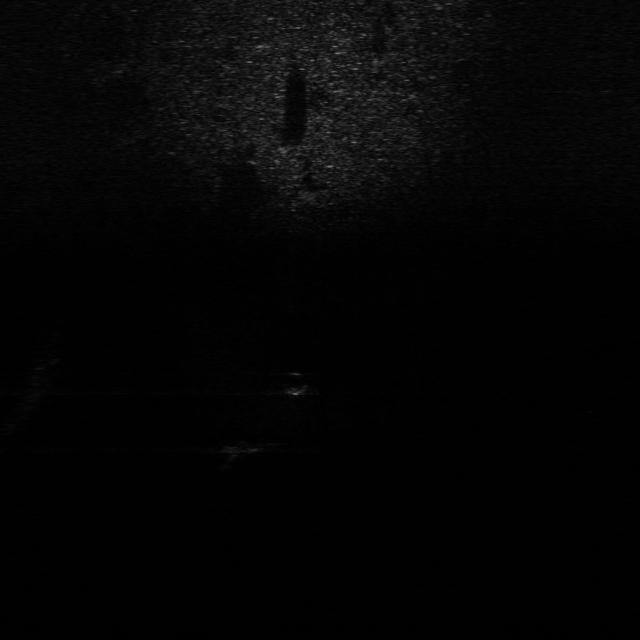ball: (274, 368, 310, 398)
square cage: (220, 434, 270, 461)
